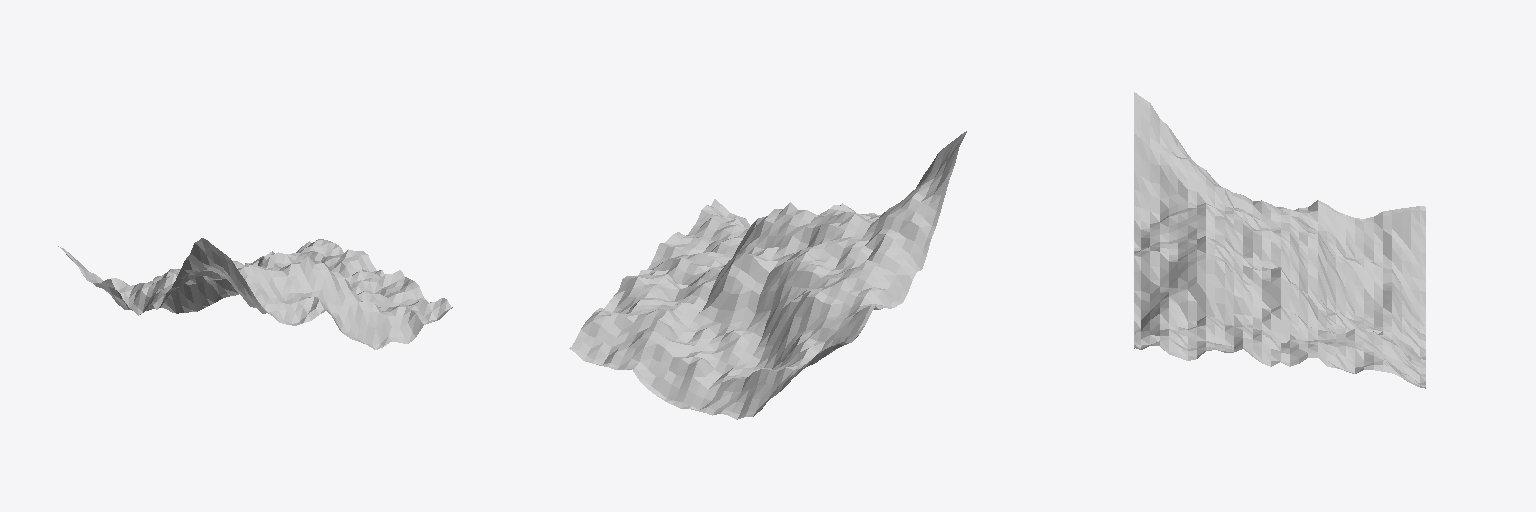
Rendered from terrain_0_3.obj.
The picture shows the model from 3 angles: view 1: azimuth 30°, elevation 25°; view 2: azimuth 150°, elevation 25°; view 3: azimuth 270°, elevation 25°; orthographic projection.
Visible parts, largest first — view 1: terrain_0_3_Plane.059; view 2: terrain_0_3_Plane.059; view 3: terrain_0_3_Plane.059.
Boxes of the visible parts, box(x1,y1,x2,y2) form: terrain_0_3_Plane.059: box(58, 238, 452, 349); terrain_0_3_Plane.059: box(569, 131, 966, 419); terrain_0_3_Plane.059: box(1134, 92, 1425, 388).
Bounding box in the file's own units: 32 × 24.86 × 32.